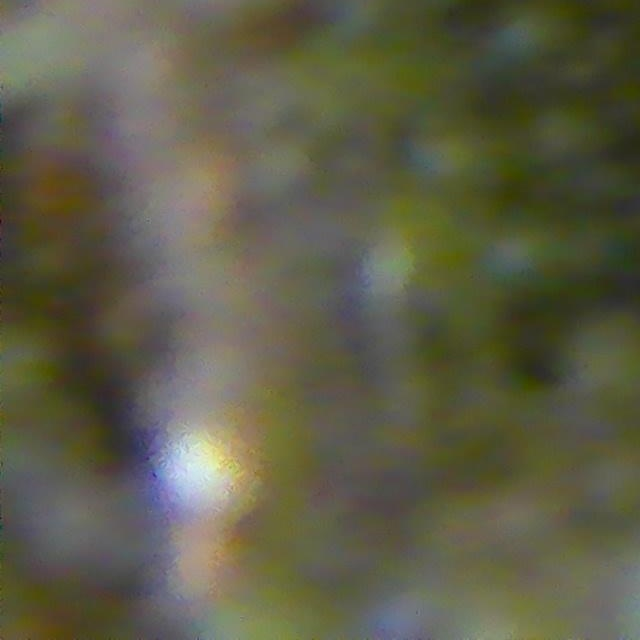SeaGrape: (487, 0, 577, 71)
